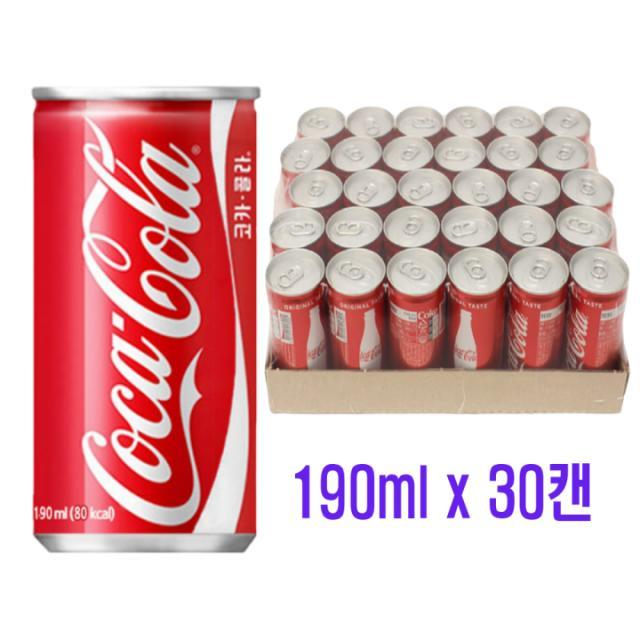coca-cola: (25, 78, 263, 558), (446, 248, 509, 374), (322, 248, 386, 372), (572, 246, 632, 370), (510, 250, 570, 372), (386, 254, 446, 374), (268, 252, 328, 368)
